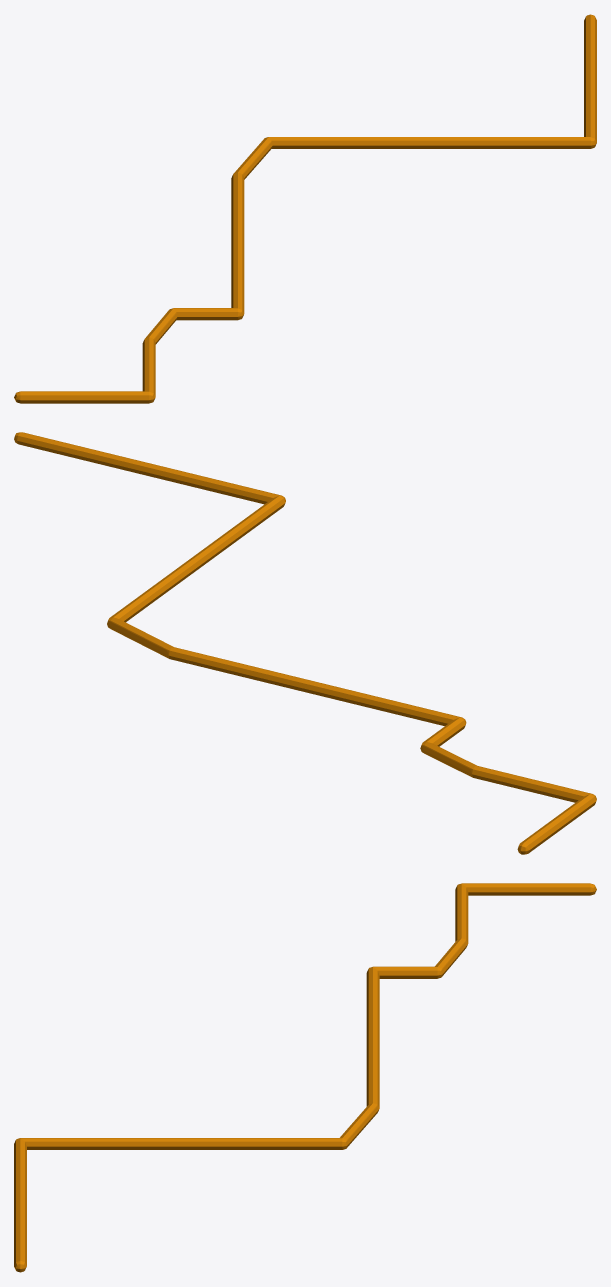
The picture shows the model from 3 angles, top to bottom: view 1: azimuth 90°, elevation 25°; view 2: azimuth 150°, elevation 25°; view 3: azimuth 270°, elevation 25°; orthographic projection. The views are drawn at different scales.
Size of the model in its own units: 1405 by 20 by 905.
